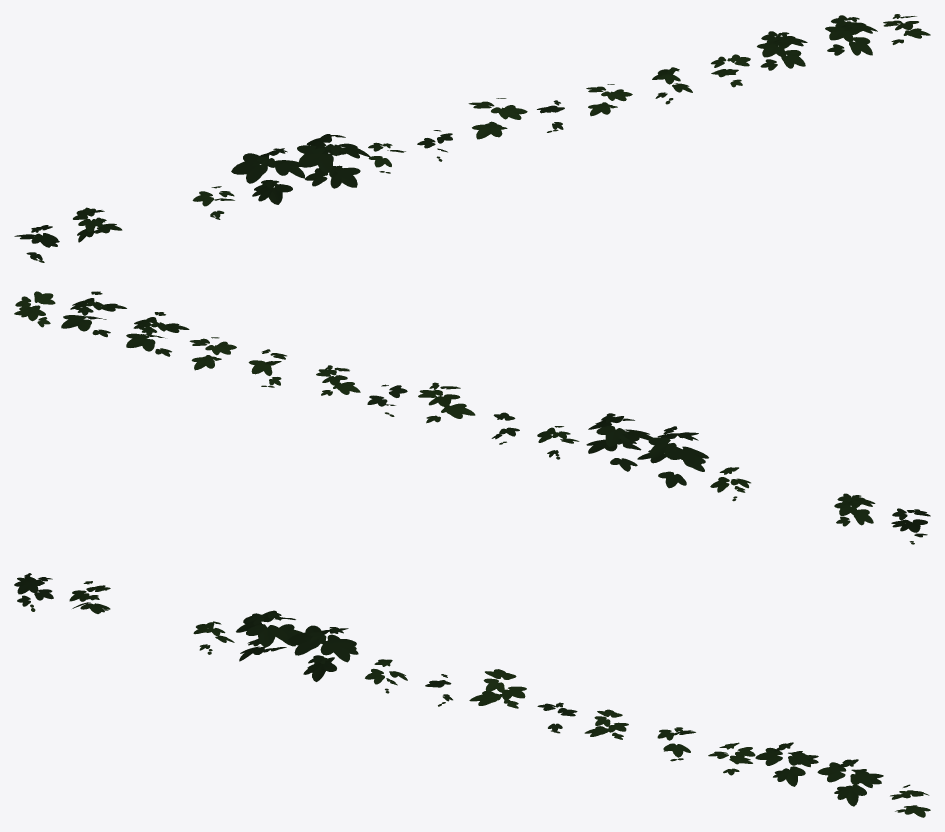
Rendered from ROW_09_SEG4_foliage.dae.
3 renders of one model, top to bottom at view 1: azimuth 30°, elevation 25°; view 2: azimuth 150°, elevation 25°; view 3: azimuth 330°, elevation 25°, orthographic.
Parts seen in each view (by area): view 1: ROW_09_SEG4_foliage; view 2: ROW_09_SEG4_foliage; view 3: ROW_09_SEG4_foliage.
Part boxes in pixels (x1,y1,x2,y2): ROW_09_SEG4_foliage: (14,14,930,262); ROW_09_SEG4_foliage: (14,291,930,544); ROW_09_SEG4_foliage: (14,573,930,817).
Size of the model in its own units: 4.78 by 0.3597 by 0.2771.
